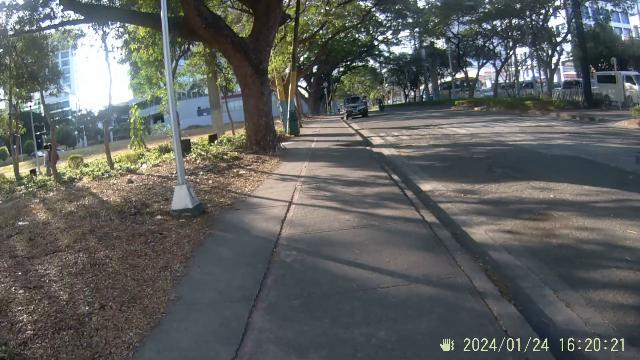tree: (222, 2, 290, 158)
utility_post: (144, 2, 206, 226)
